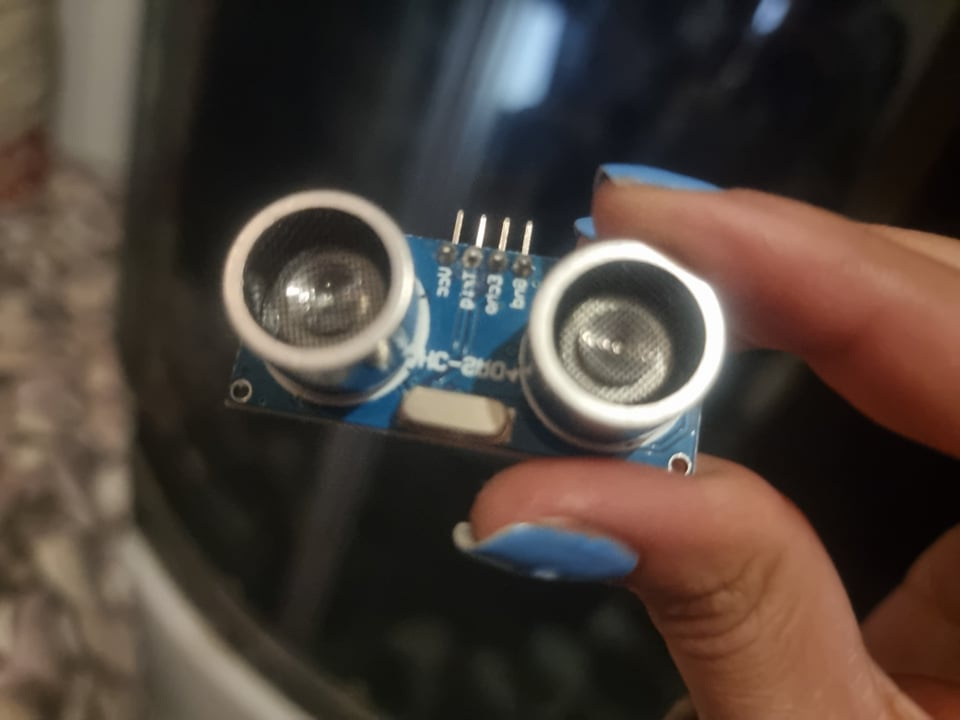SENSOR: (211, 187, 742, 476)
